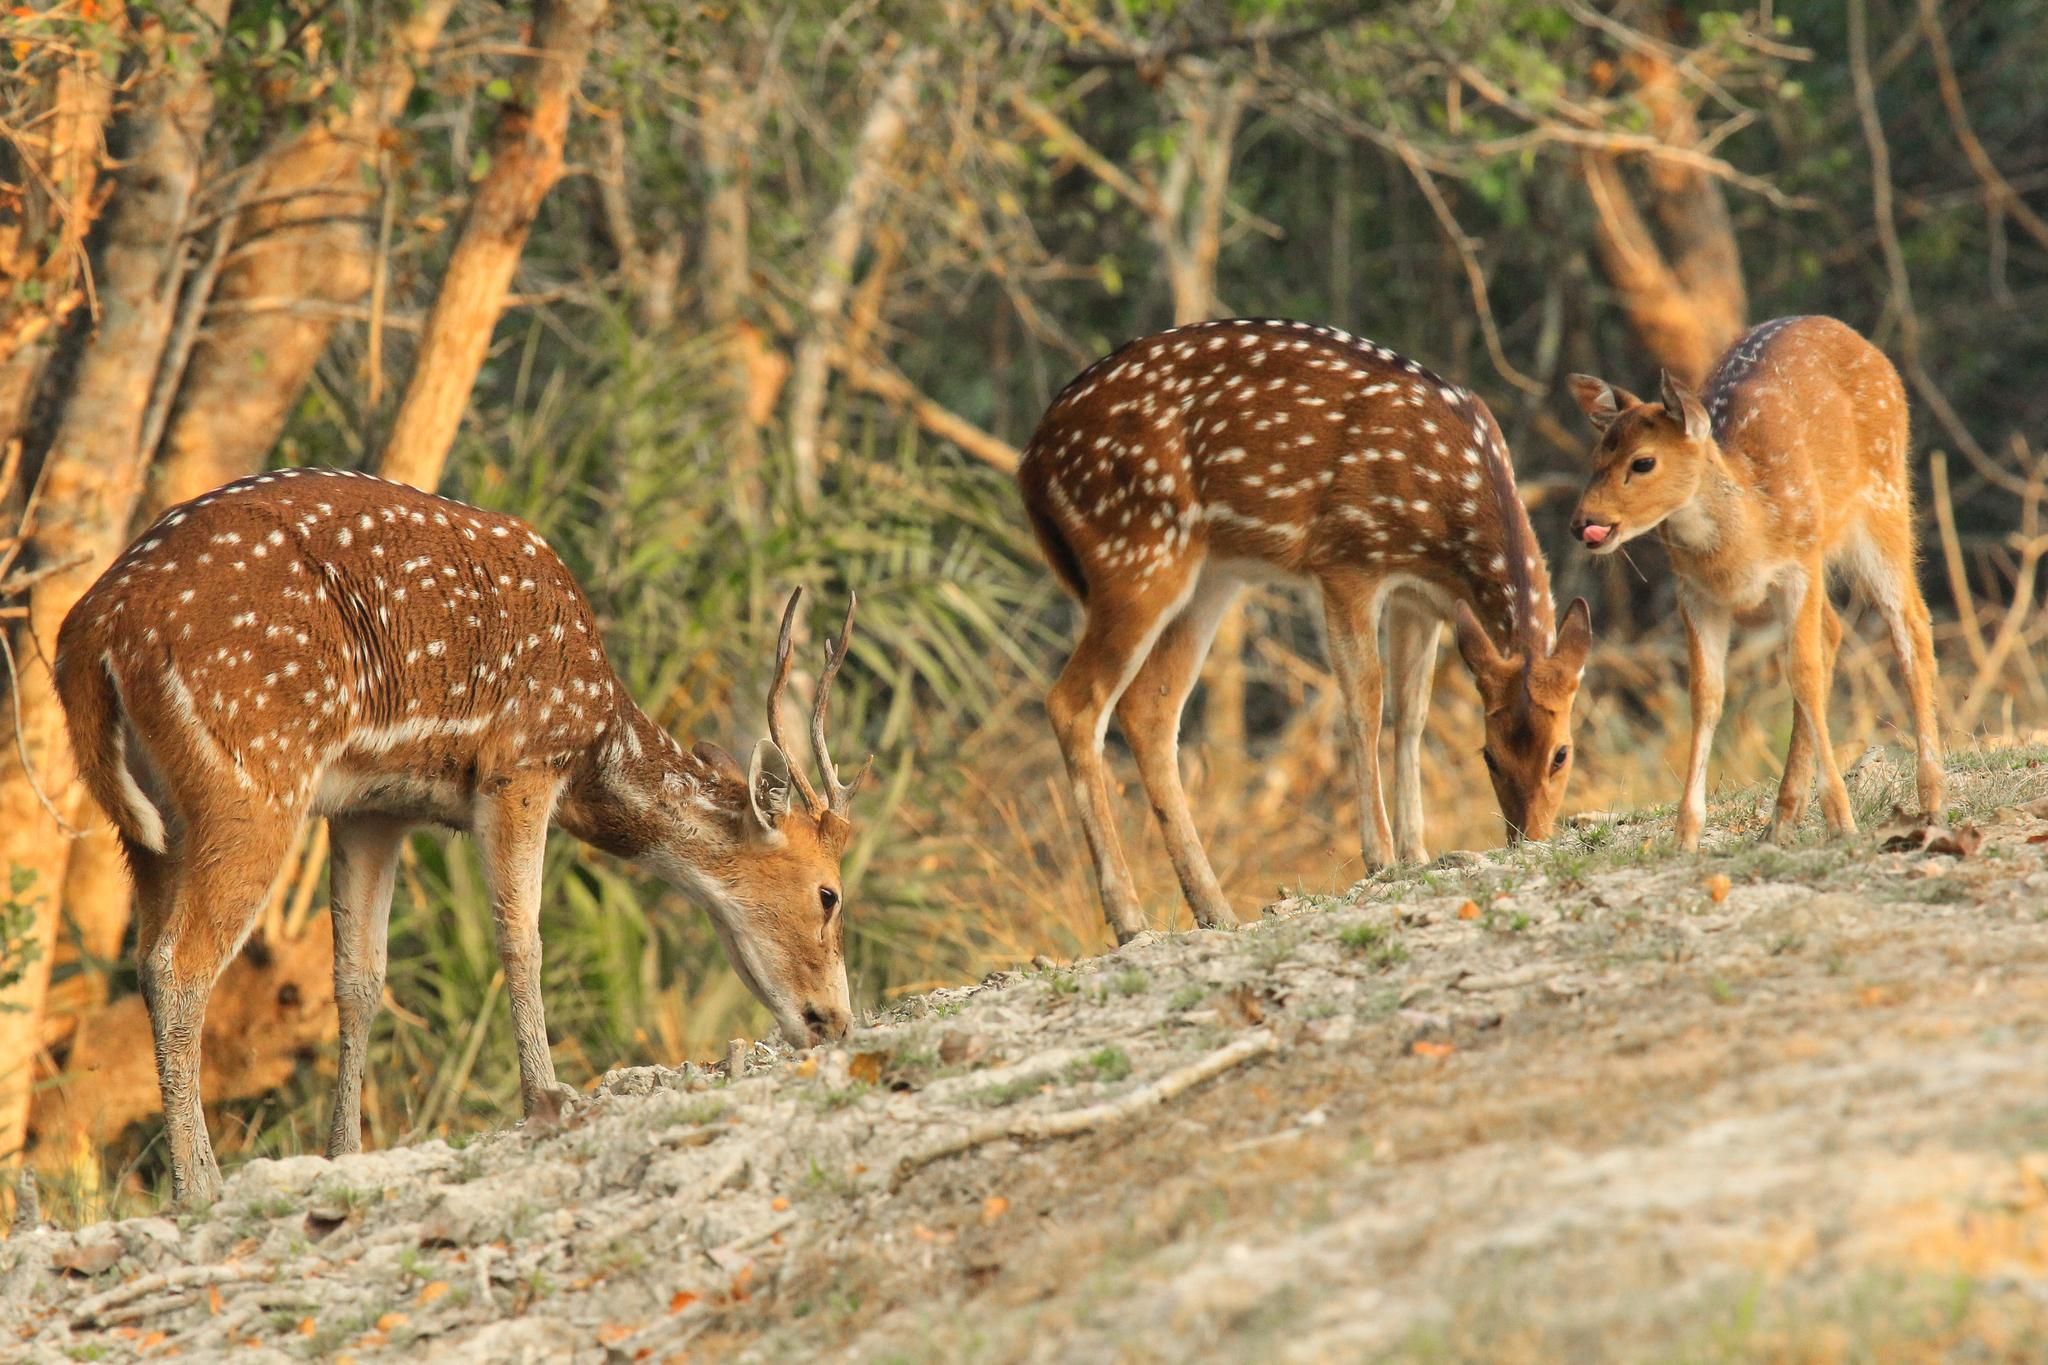Deer: (56, 469, 854, 1207), (1017, 318, 1591, 932), (1570, 315, 1943, 850)
